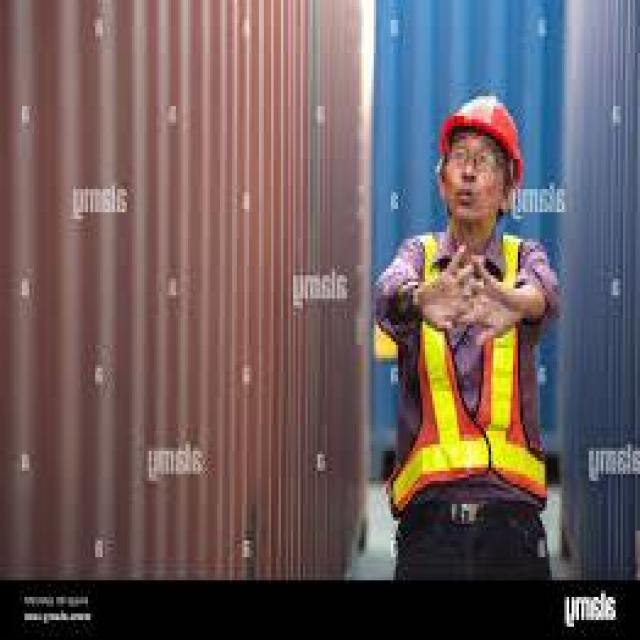Reflective-Jacket: (373, 222, 554, 524)
Safety-Helmet: (420, 83, 542, 196)
